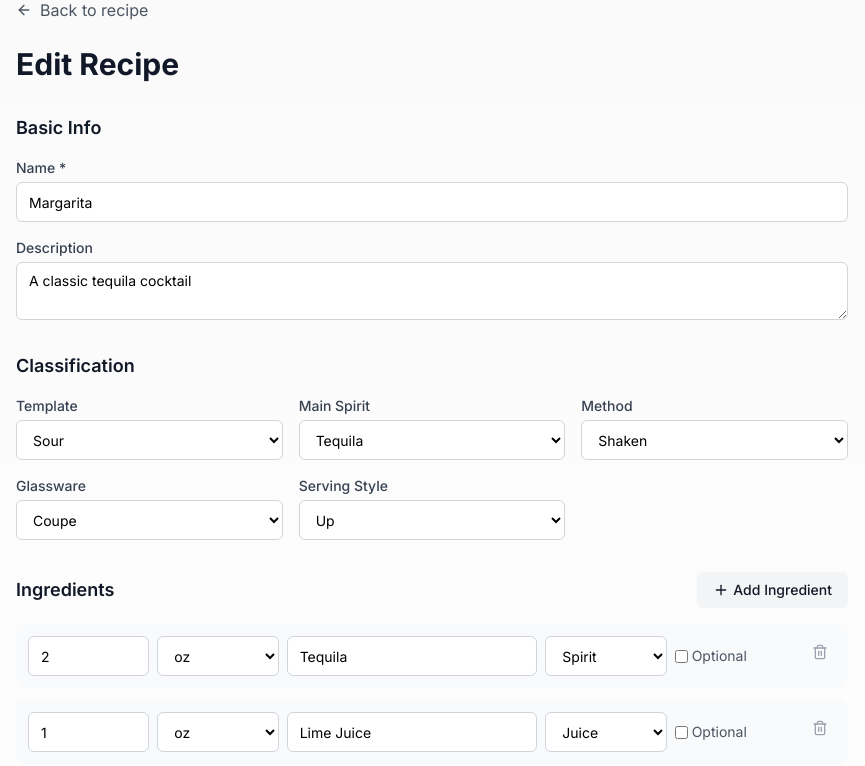
Test: EditRecipePage › Form Submission › disables submit when name is empty
The width and height of the screenshot is (865, 766).
Clear the field labelled "Name *": (432, 202) [16,182,848,222]
(page scrolled)
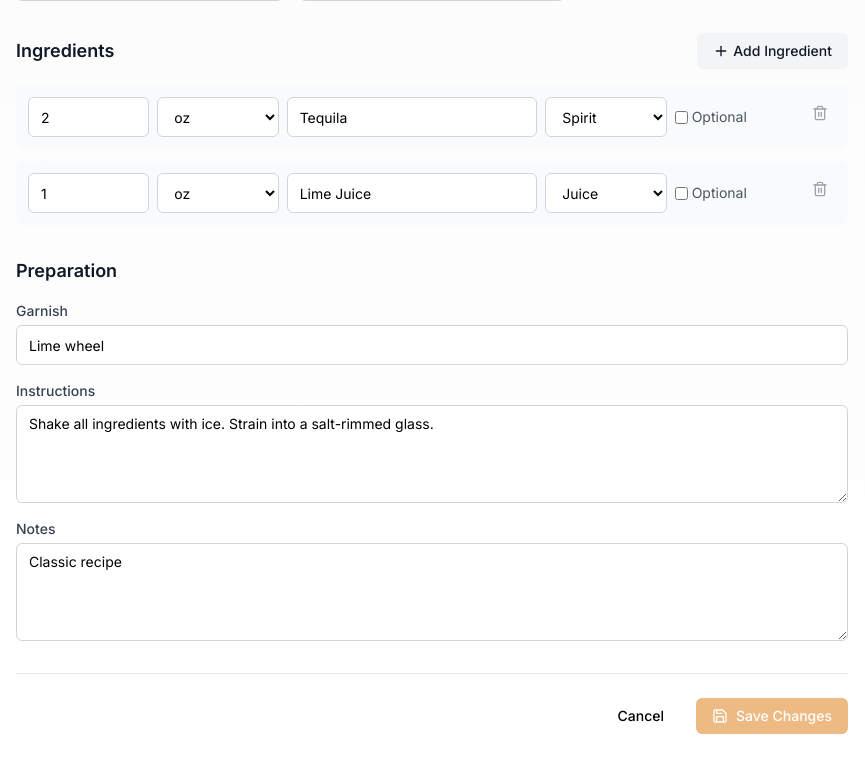
Check: the button "Save Changes" is disabled, box [696,698,848,734]
